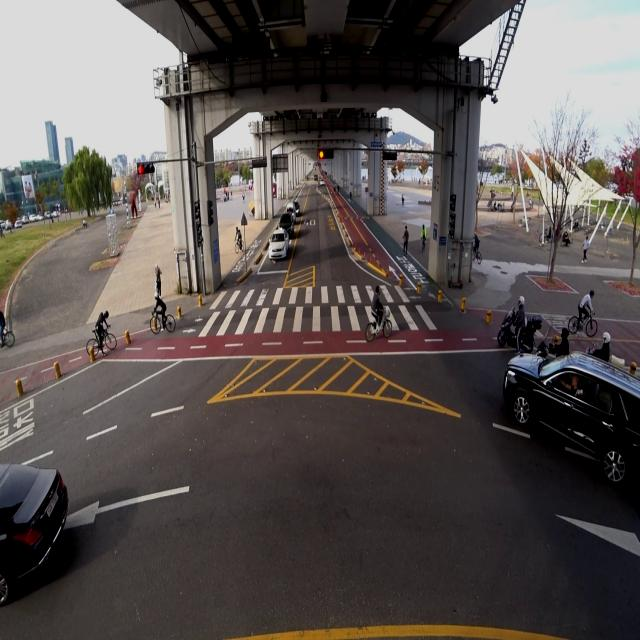Car: (492, 331, 640, 506), (0, 424, 90, 606), (266, 227, 290, 266), (280, 212, 294, 240), (286, 198, 294, 224), (295, 199, 302, 216)
Motorcycle: (581, 327, 638, 388), (496, 293, 543, 357), (539, 324, 572, 363)
